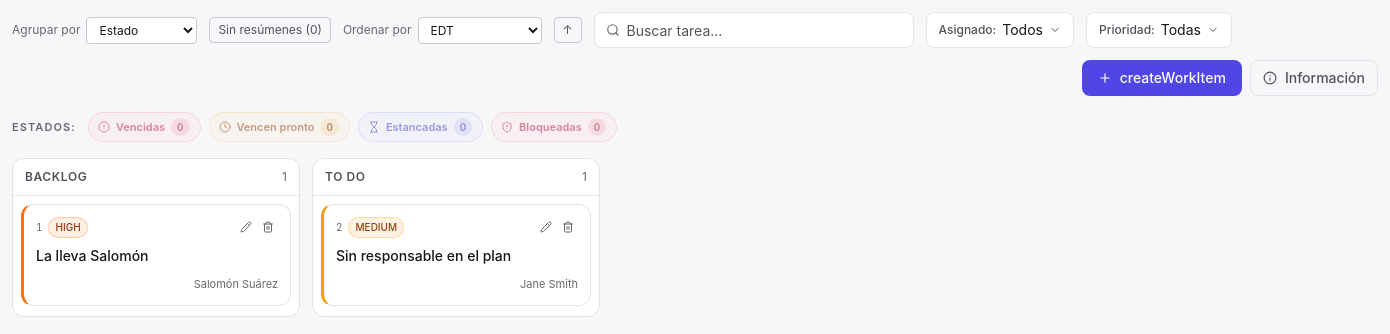
Test: §5.4 · agrupar por Asignados dibuja las tarjetas › la tarjeta con responsable del plan sigue en pantalla
Select "Responsable" in the dropdown labelled "Agrupar por" at (142, 30), box x1=86 y1=16 x2=197 y2=44
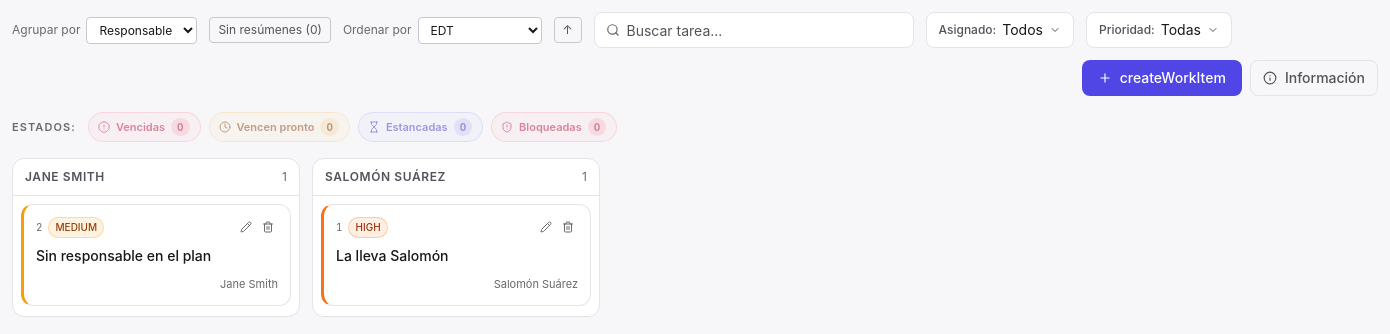
Check: the button "La lleva Salomón" is shown, box x1=336 y1=246 x2=448 y2=266
